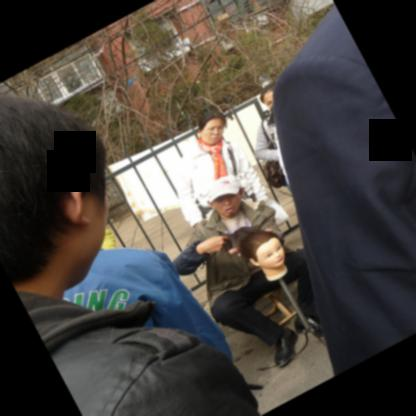handbag: (254, 119, 286, 189)
